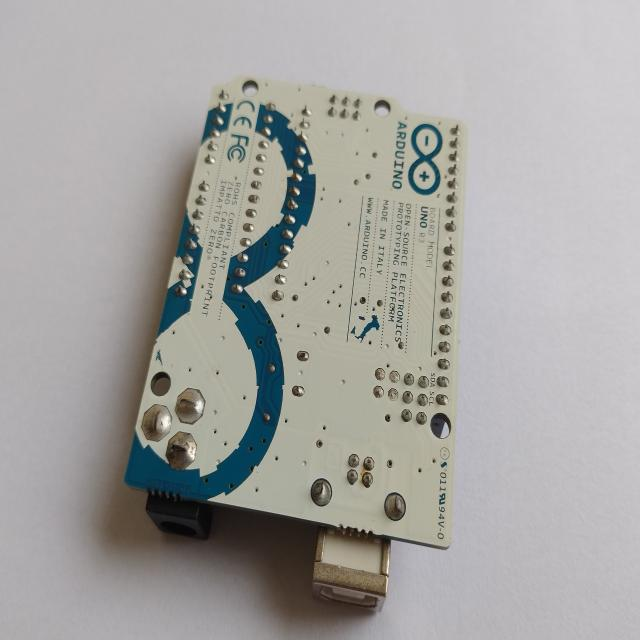arduino: (125, 70, 473, 621)
